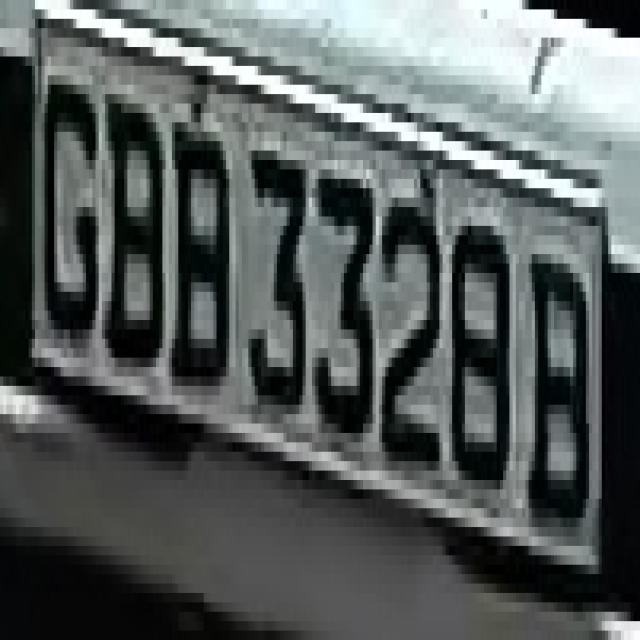2: (379, 170, 449, 518)
3: (312, 132, 382, 452), (245, 104, 309, 442)
8: (442, 178, 512, 518)
B: (522, 198, 596, 574), (169, 75, 232, 442), (105, 75, 169, 405)
G: (35, 47, 102, 358)
